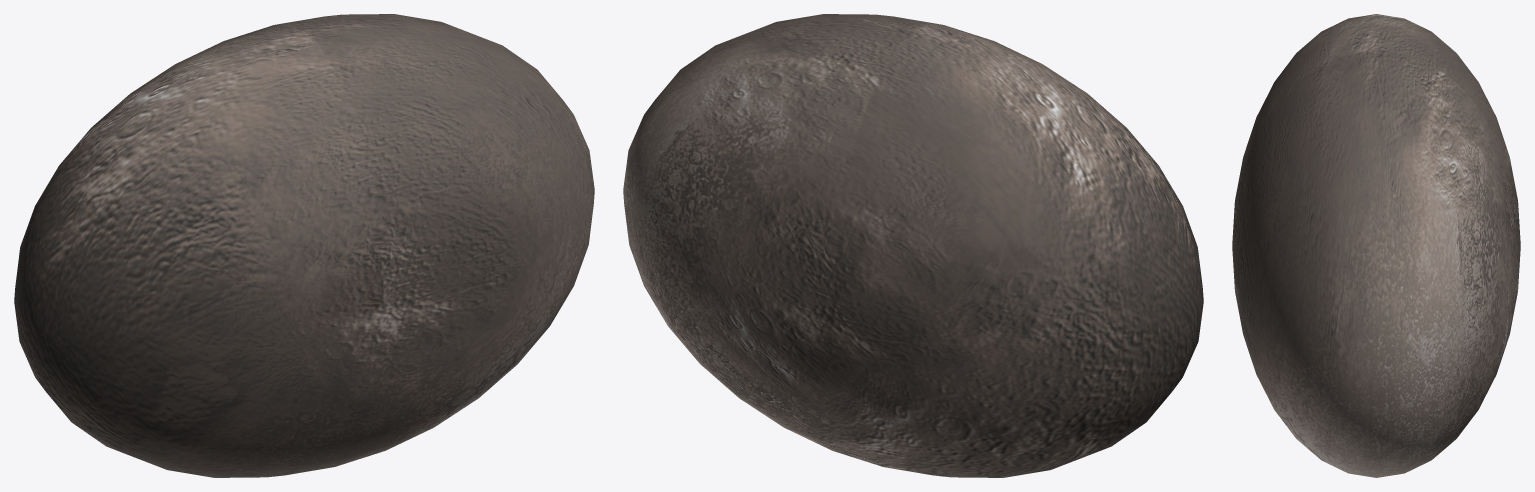
File: haumea.glb
3 renders of one model, left to right at view 1: azimuth 30°, elevation 25°; view 2: azimuth 150°, elevation 25°; view 3: azimuth 270°, elevation 25°, orthographic. The views are drawn at different scales.
Parts seen in each view (by area): view 1: Haumea; view 2: Haumea; view 3: Haumea.
Boxes of the visible parts, x1,y1,x2,y2 form: Haumea: (14, 14, 594, 477); Haumea: (623, 14, 1203, 477); Haumea: (1232, 14, 1520, 477).
Bounding box in the file's own units: 2322 × 1704 × 1138.
1 material, 1 textured.
